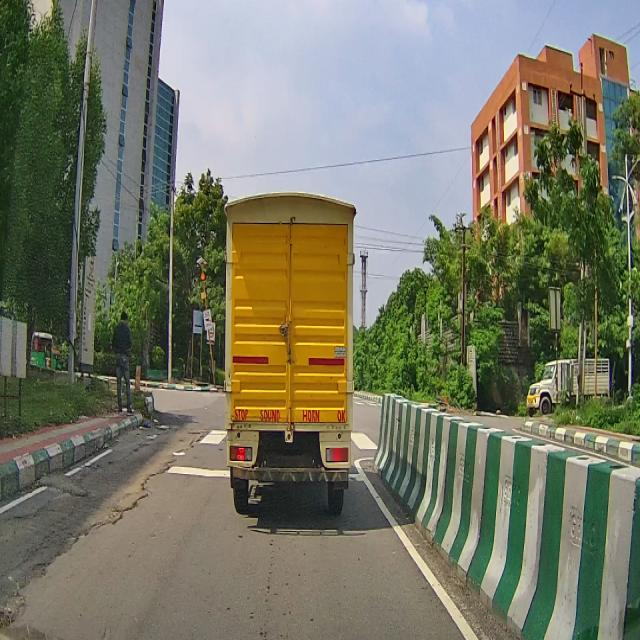car ahead at: (214, 182, 368, 528)
electric pole ahead at: (163, 175, 185, 391)
person ahead at: (111, 307, 137, 417)
